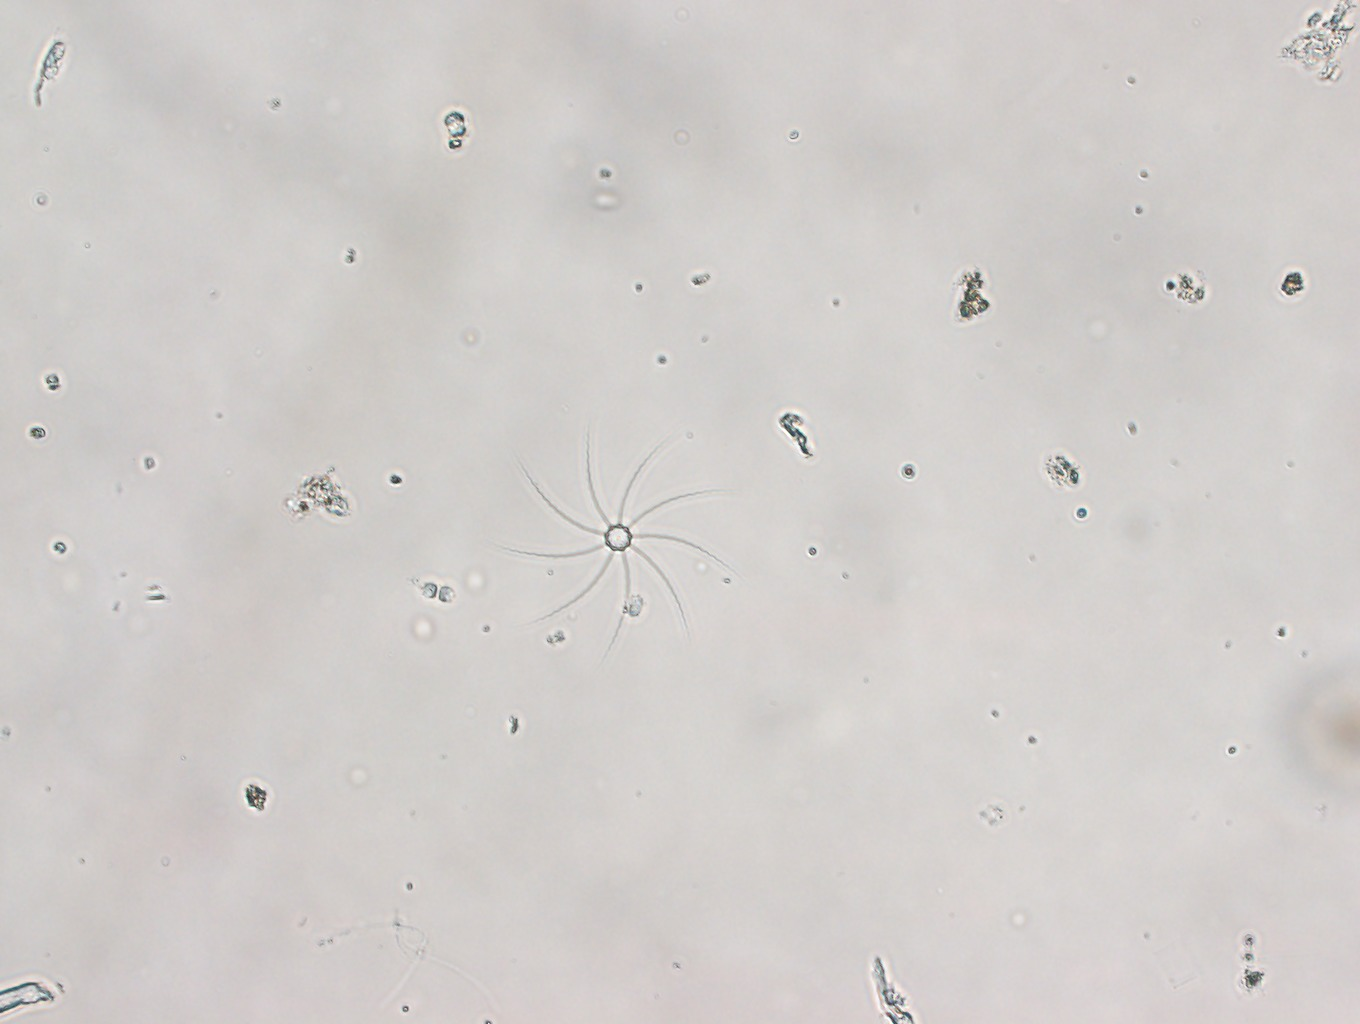bacteriastrum: (495, 410, 742, 666)
